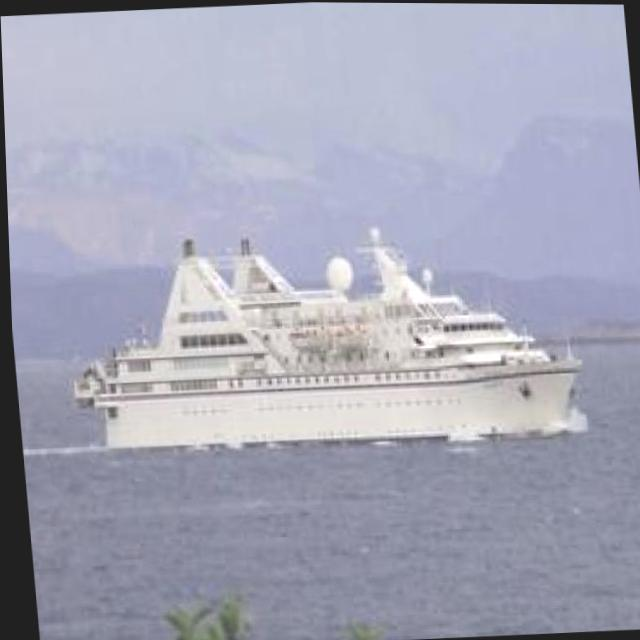ship2: (68, 225, 581, 453)
